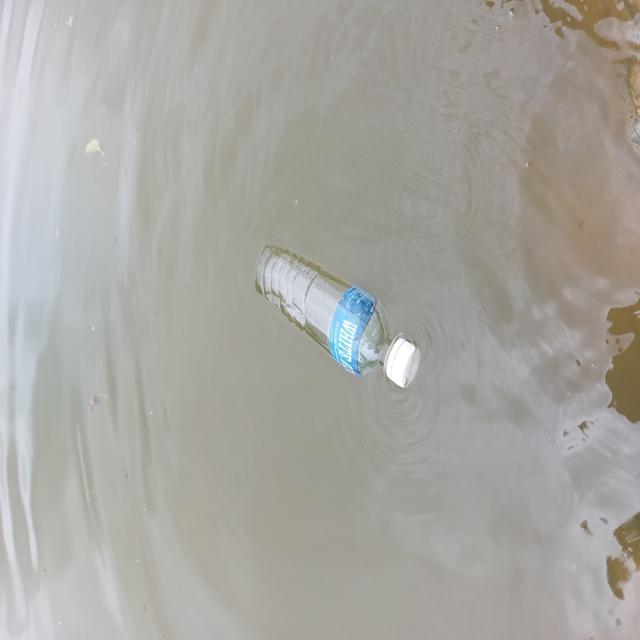waterbottle: (244, 238, 448, 408)
